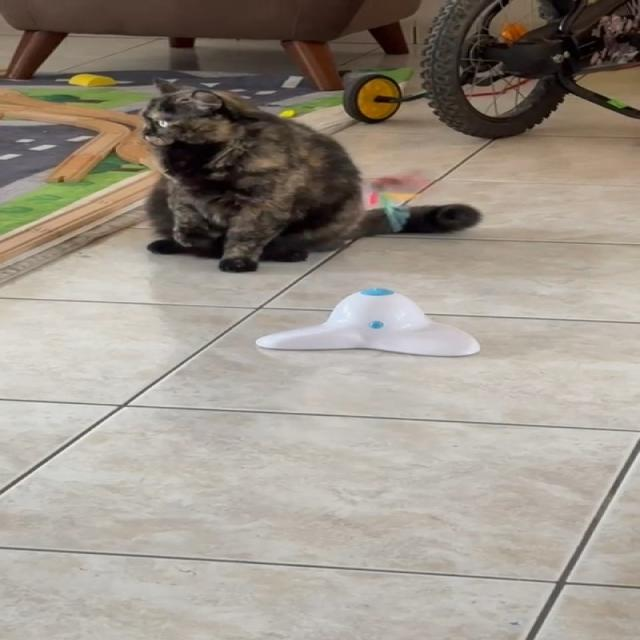authorized: (138, 77, 482, 272)
